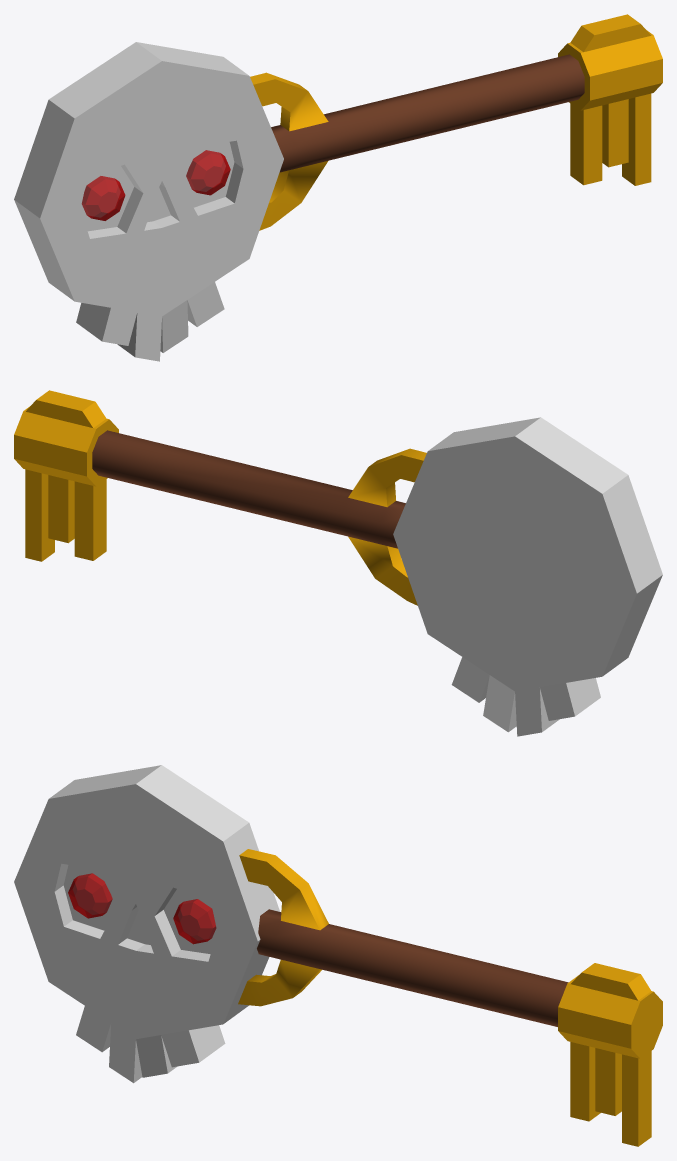
The model's file is KeyComplete.fbx.
The picture shows the model from 3 angles, top to bottom: view 1: azimuth 30°, elevation 25°; view 2: azimuth 150°, elevation 25°; view 3: azimuth 330°, elevation 25°; orthographic projection.
Parts seen in each view (by area): view 1: KeyHead, KeyNeck, KeyTeeth, KeyEye2, KeyEye1; view 2: KeyHead, KeyNeck, KeyTeeth; view 3: KeyHead, KeyNeck, KeyTeeth, KeyEye1, KeyEye2.
Boxes of the visible parts, x1=… form: KeyHead: x1=14, y1=42, x2=283, y2=361; KeyNeck: x1=250, y1=54, x2=584, y2=230; KeyTeeth: x1=558, y1=14, x2=662, y2=185; KeyEye2: x1=186, y1=150, x2=230, y2=195; KeyEye1: x1=81, y1=176, x2=125, y2=220; KeyHead: x1=393, y1=417, x2=662, y2=736; KeyNeck: x1=92, y1=430, x2=426, y2=605; KeyTeeth: x1=14, y1=390, x2=118, y2=561; KeyHead: x1=14, y1=765, x2=279, y2=1083; KeyNeck: x1=238, y1=849, x2=568, y2=1026; KeyTeeth: x1=558, y1=963, x2=662, y2=1146; KeyEye1: x1=68, y1=873, x2=112, y2=918; KeyEye2: x1=173, y1=899, x2=216, y2=944.
Size of the model in its own units: 709 by 328 by 63.09.
